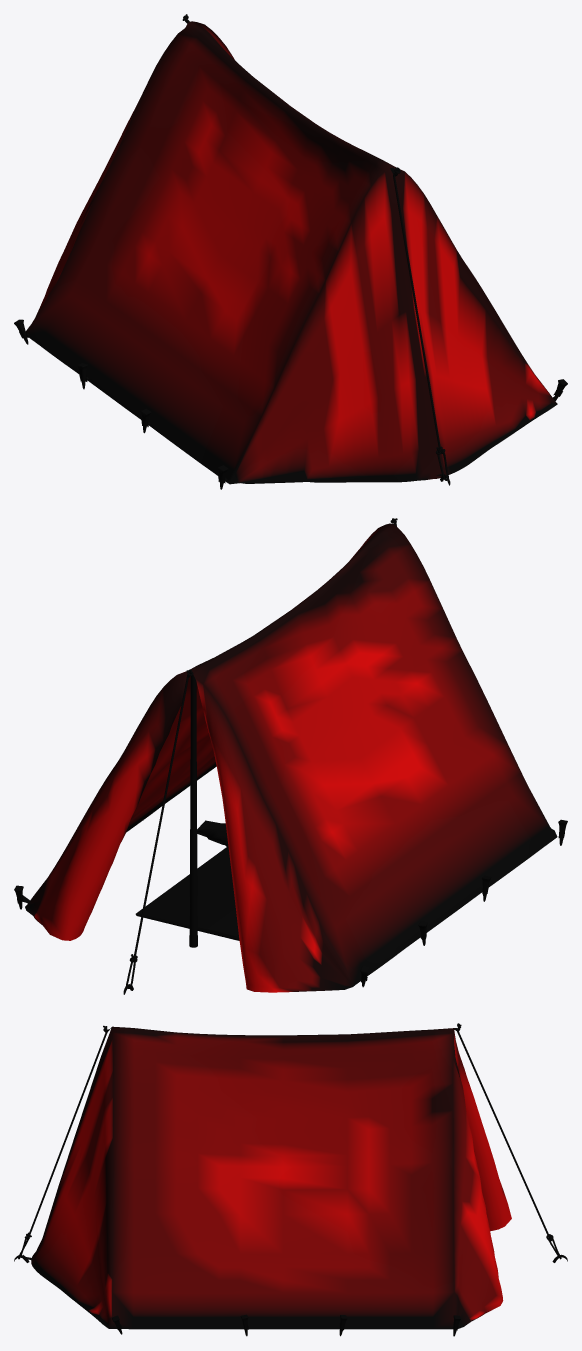
File: Camping.fbx
The picture shows the model from 3 angles, top to bottom: view 1: azimuth 30°, elevation 25°; view 2: azimuth 150°, elevation 25°; view 3: azimuth 270°, elevation 25°; orthographic projection. The views are drawn at different scales.
Parts seen in each view (by area): view 1: Camping_base_LOD0; view 2: Camping_base_LOD0; view 3: Camping_base_LOD0.
Boxes of the visible parts, box(x1,y1,x2,y2) form: Camping_base_LOD0: box(14, 14, 567, 489); Camping_base_LOD0: box(14, 518, 567, 994); Camping_base_LOD0: box(14, 1023, 567, 1336).
Size of what is drawn, in the model's own units: 2.42 by 1.86 by 3.86.
